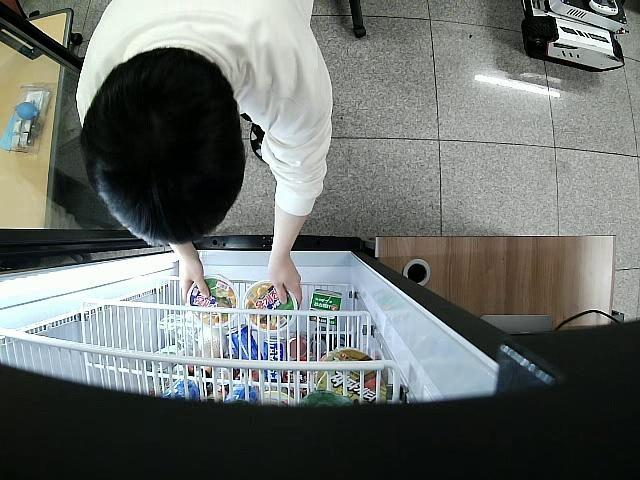09_yukGaeJang: (242, 280, 298, 334), (188, 275, 238, 328)
